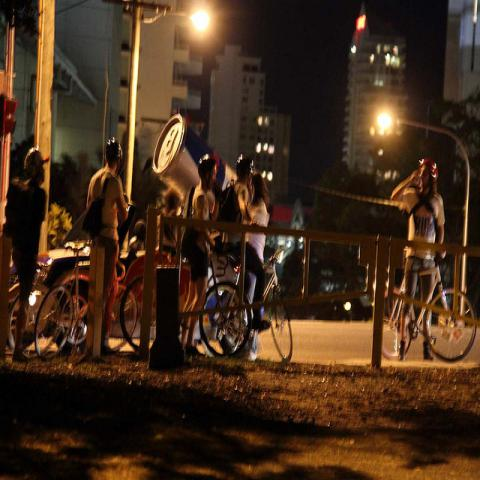car: (42, 256, 90, 291)
